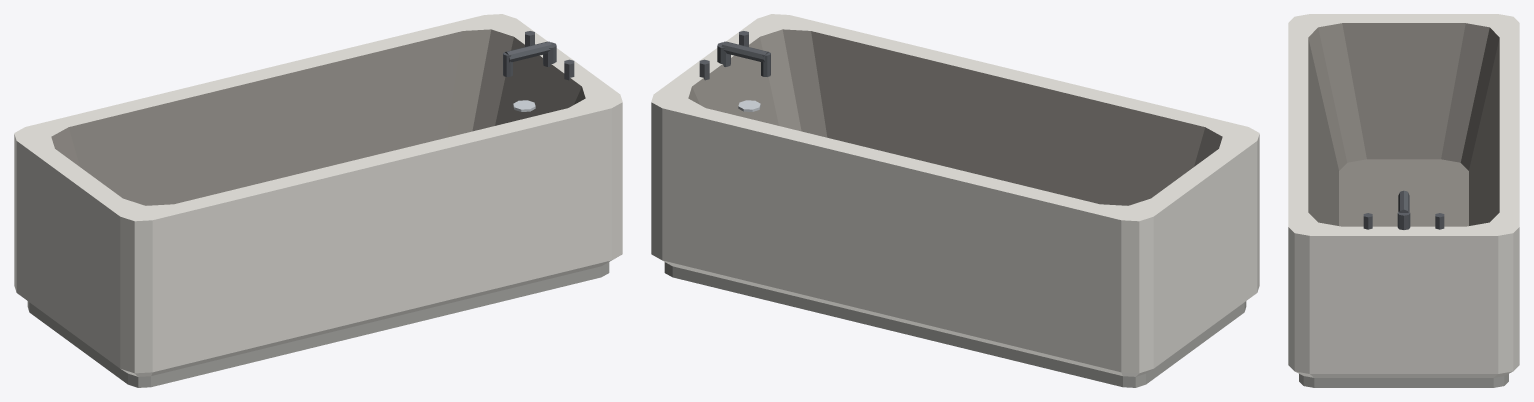
File: FN_Bath_Tub.glb
The picture shows the model from 3 angles, left to right: view 1: azimuth 30°, elevation 25°; view 2: azimuth 150°, elevation 25°; view 3: azimuth 270°, elevation 25°; orthographic projection. The views are drawn at different scales.
Parts seen in each view (by area): view 1: FN_Bath_Tub; view 2: FN_Bath_Tub; view 3: FN_Bath_Tub.
Boxes of the visible parts, bbox=[...] form: FN_Bath_Tub: bbox=[14, 14, 622, 387]; FN_Bath_Tub: bbox=[651, 14, 1259, 387]; FN_Bath_Tub: bbox=[1288, 14, 1519, 387].
Bounding box in the file's own units: 1.7 × 0.624 × 0.75.
1 material, 1 textured.
